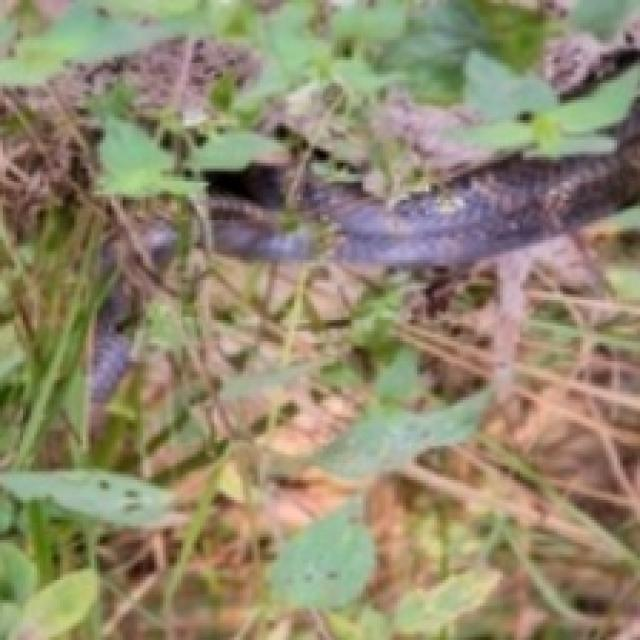king cobra: (69, 0, 637, 403)
